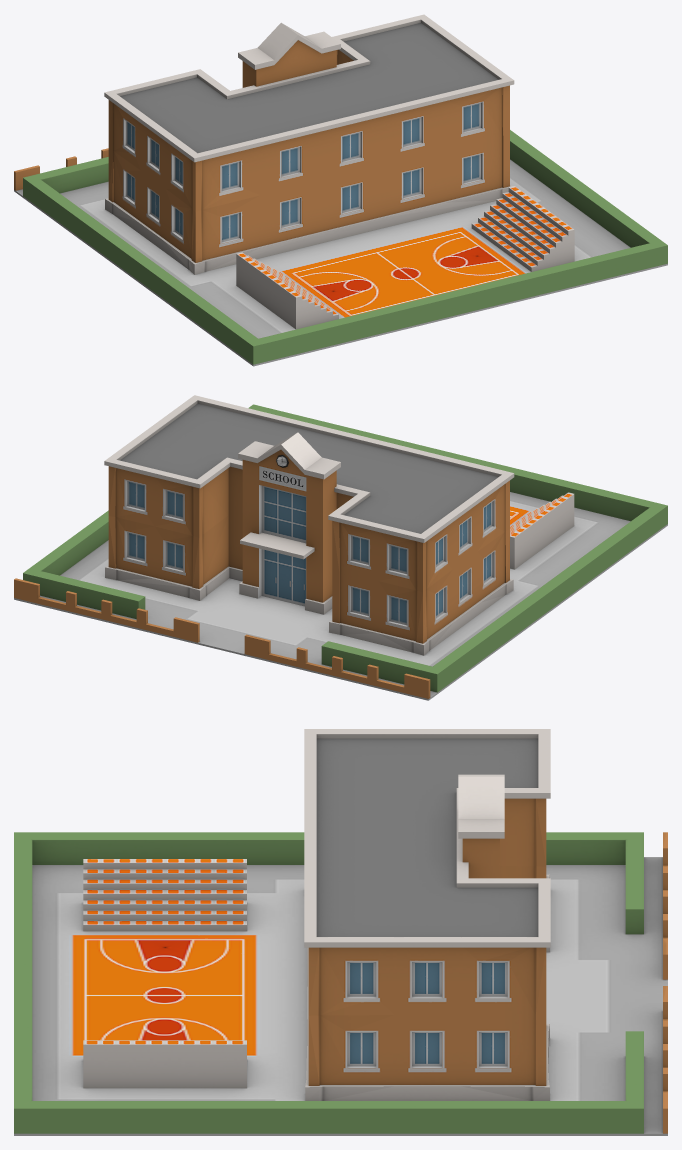
File: HOS0610003.fbx
3 views of the same model, one above another, from view 1: azimuth 30°, elevation 25°; view 2: azimuth 150°, elevation 25°; view 3: azimuth 270°, elevation 25° (orthographic). The views are drawn at different scales.
Parts seen in each view (by area): view 1: smHOS0610003; view 2: smHOS0610003; view 3: smHOS0610003.
Part boxes in pixels (left/top/right/bottom): smHOS0610003: left=14, top=14, right=667, bottom=366; smHOS0610003: left=14, top=395, right=667, bottom=700; smHOS0610003: left=14, top=729, right=667, bottom=1135.
Size of what is drawn, in the model's own units: 2933 by 1094 by 2933.
1 material, 1 textured.
